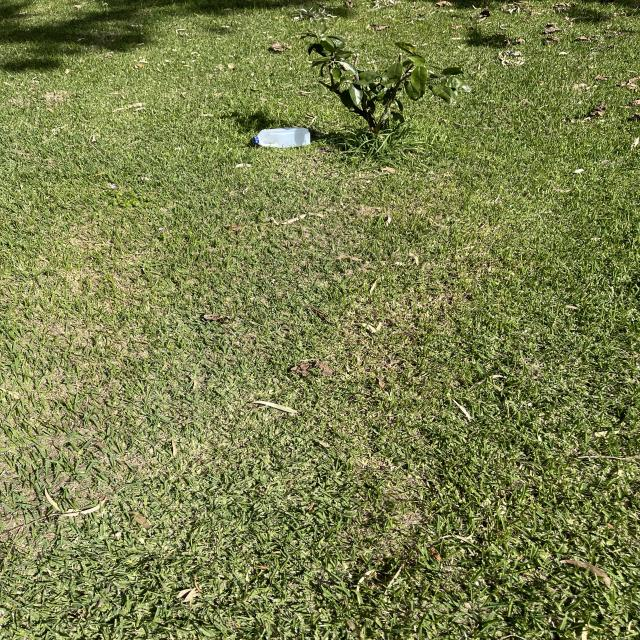bottle: (251, 127, 312, 149)
